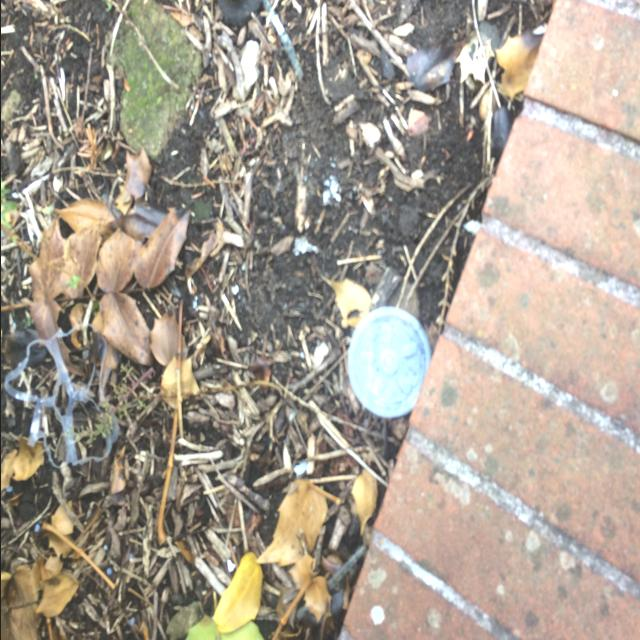Plastic lid: (347, 307, 429, 418)
Six pack rings: (3, 324, 117, 468)
